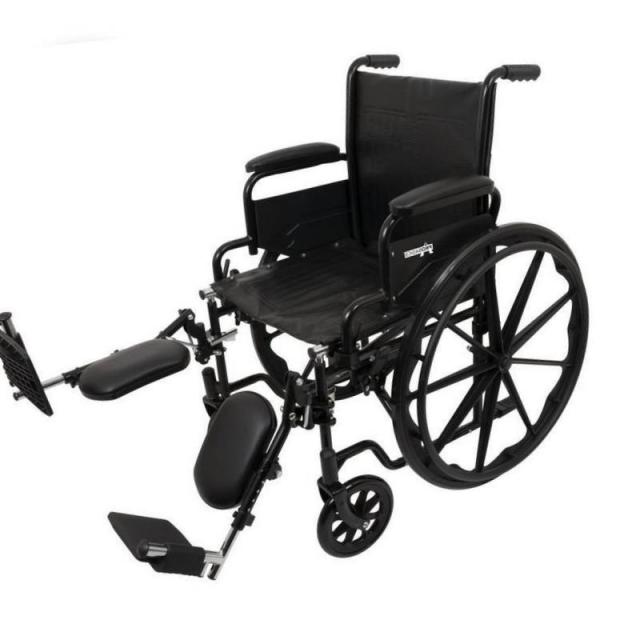wheelchair: (5, 40, 608, 585)
